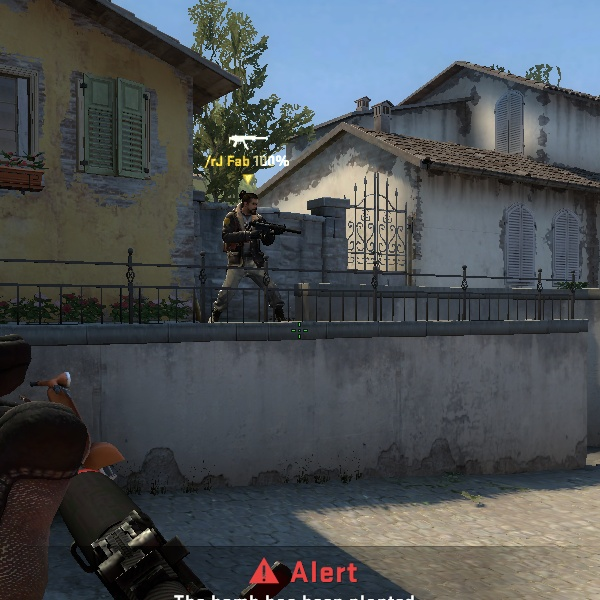t_body: (211, 191, 286, 324)
t_head: (231, 188, 267, 224)
